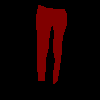pantaloni: (36, 4, 67, 84)
